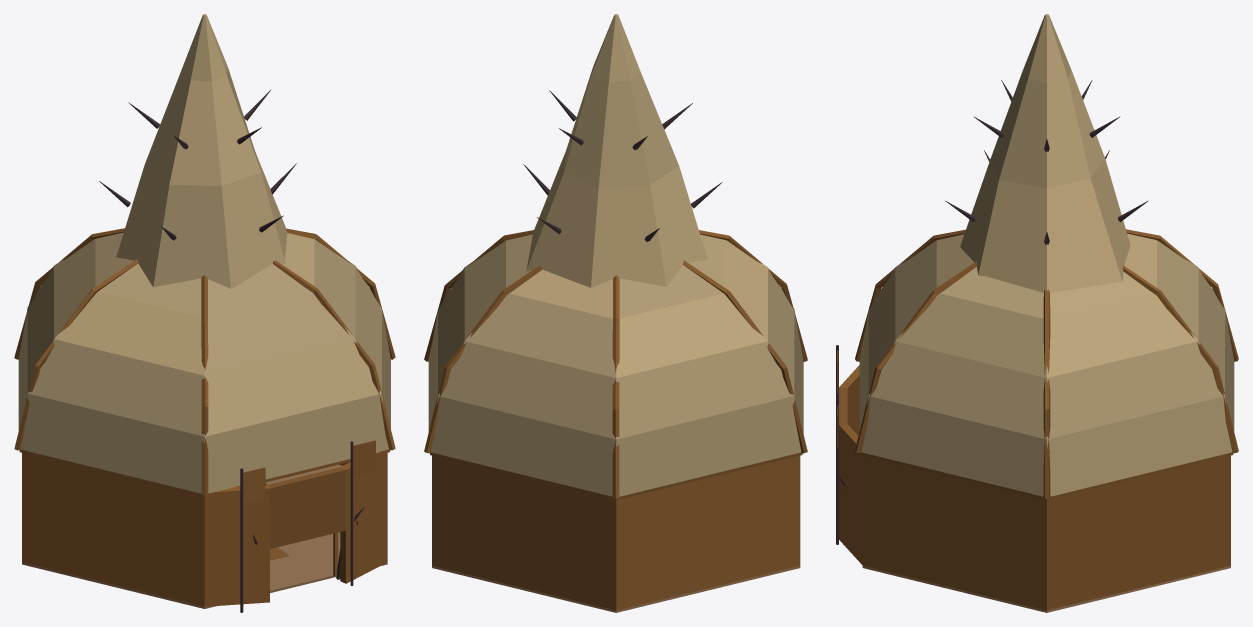
The model's file is walk_hive_hall.glb.
The picture shows the model from 3 angles, left to right: view 1: azimuth 30°, elevation 25°; view 2: azimuth 150°, elevation 25°; view 3: azimuth 270°, elevation 25°; orthographic projection.
Visible parts, largest first — view 1: walk_hive_hall_roof, walk_hive_hall; view 2: walk_hive_hall_roof, walk_hive_hall; view 3: walk_hive_hall_roof, walk_hive_hall.
Boxes of the visible parts, left/top/right/bottom form: walk_hive_hall_roof: left=14, top=14, right=395, bottom=497; walk_hive_hall: left=22, top=440, right=387, bottom=612; walk_hive_hall_roof: left=424, top=14, right=807, bottom=500; walk_hive_hall: left=432, top=455, right=800, bottom=612; walk_hive_hall_roof: left=855, top=14, right=1238, bottom=500; walk_hive_hall: left=836, top=345, right=1230, bottom=612.
Size of what is drawn, in the model's own units: 17.46 by 22.18 by 15.92.
Materials: 2 (2 with a texture image).
